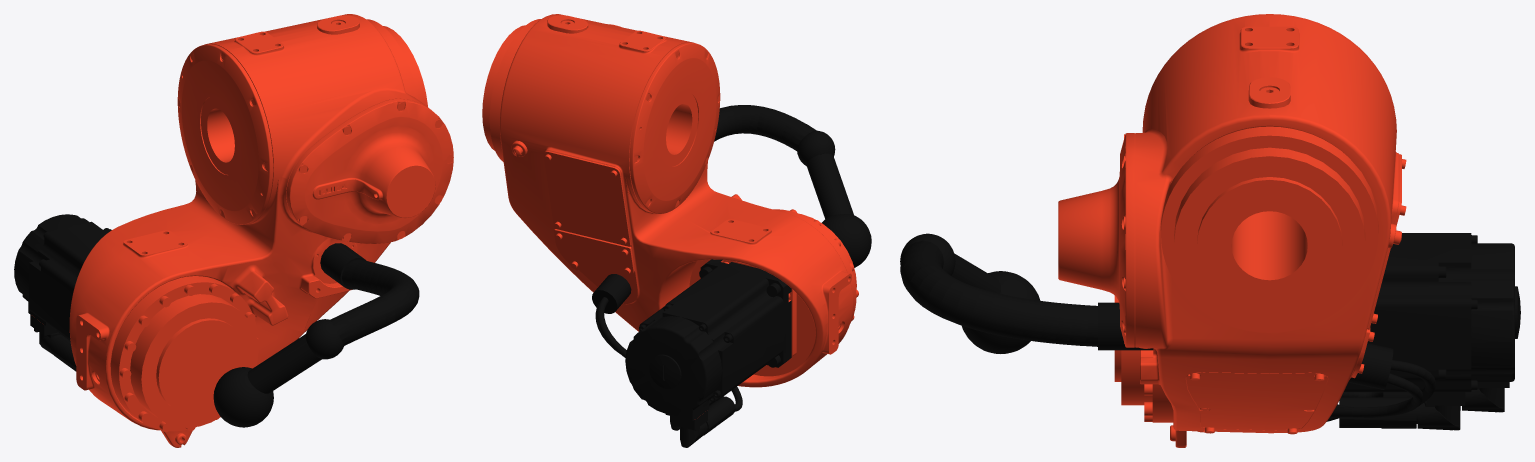
3 views of the same model, side by side, from view 1: azimuth 30°, elevation 25°; view 2: azimuth 150°, elevation 25°; view 3: azimuth 270°, elevation 25° (orthographic). The views are drawn at different scales.
Parts seen in each view (by area): view 1: link_3; view 2: link_3; view 3: link_3.
Boxes of the visible parts, x1,y1,x2,y2 form: link_3: (14,14,453,447); link_3: (482,14,871,447); link_3: (900,14,1520,447).
Size of the model in its own units: 0.3807 by 0.4479 by 0.3867.
